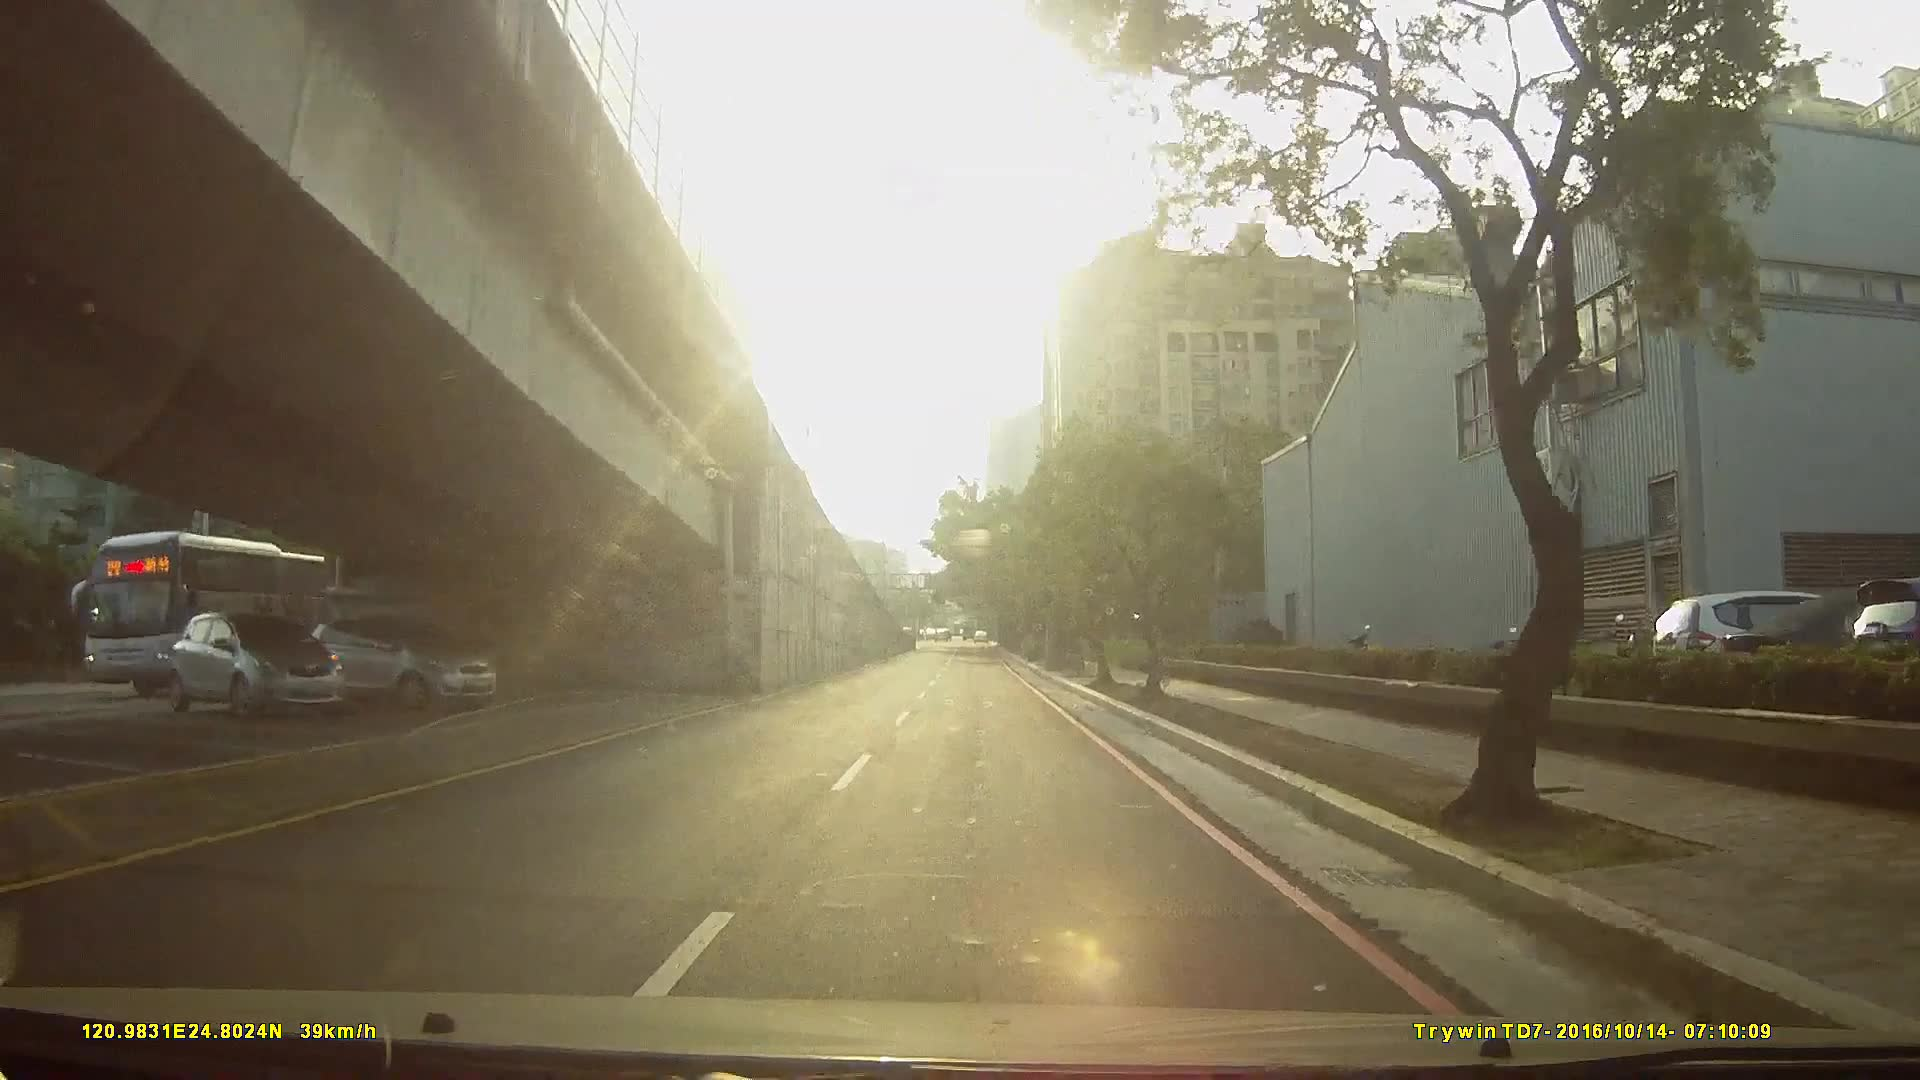vehicle: (55, 520, 345, 707), (289, 613, 516, 711), (154, 605, 334, 719)
